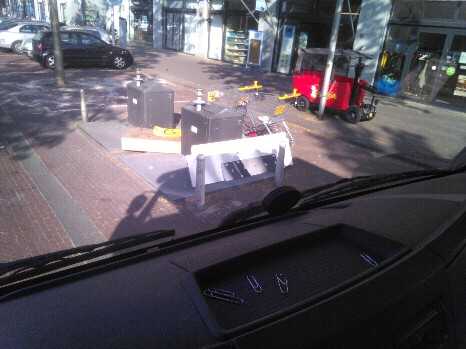Container: (123, 79, 171, 129), (180, 102, 240, 133)
Rest: (181, 138, 299, 178), (236, 84, 278, 130), (131, 129, 185, 157)
Voertuig: (33, 26, 134, 71), (15, 20, 96, 59)
